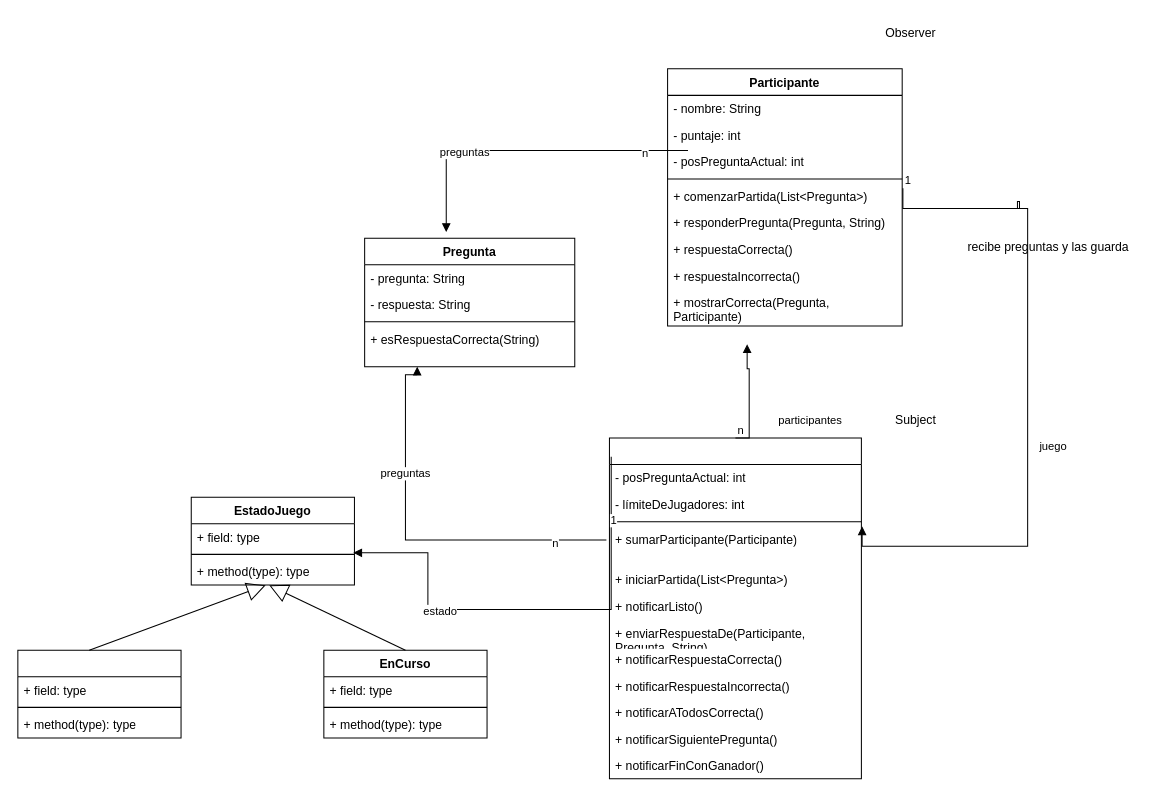
Some shapes in this 1158 by 799 pixel diagram are drawn without their labels. The box of each missing label's shape, as (x1, y1, x2, y2) in pixels:
EnLobby: (17, 649, 181, 738)
JuegoPreguntas: (608, 437, 861, 779)
